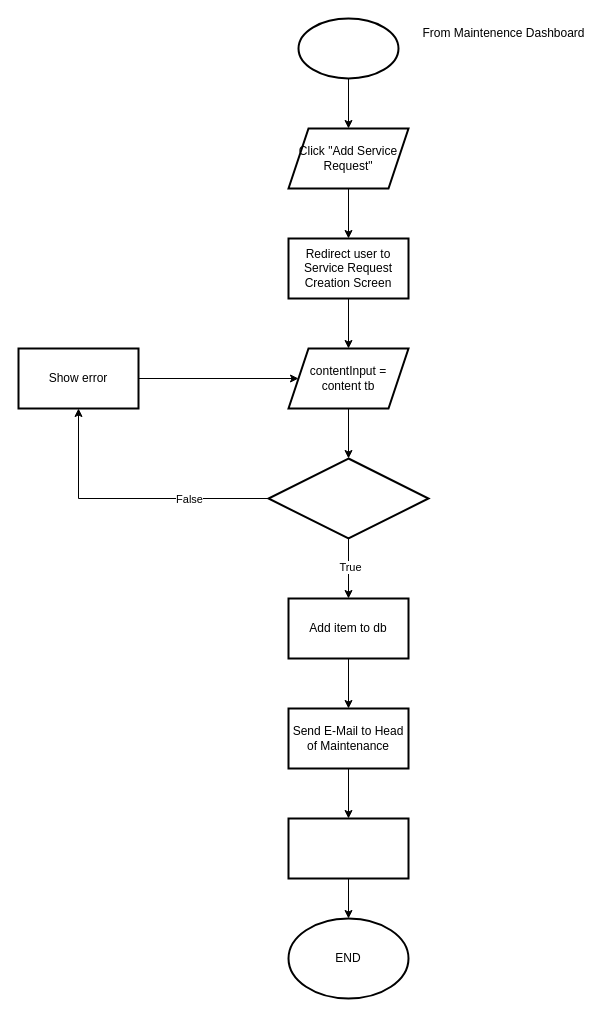
This 615x1016 diagram has some shape labels left out. The shapes that lost their labels are listed below. From the top down, each one's centre as x and y in pixels, then its label:
(x=348, y=48): START
(x=348, y=498): contentInput != null || contentInput != ""
(x=348, y=848): Redirect back to dashboard
